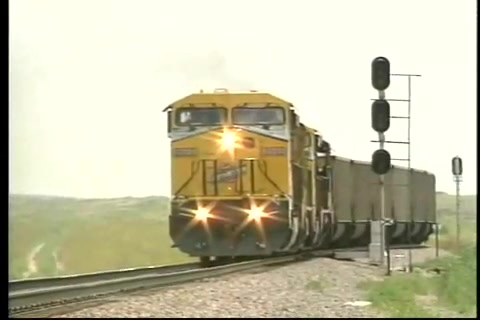train: (165, 89, 438, 266)
